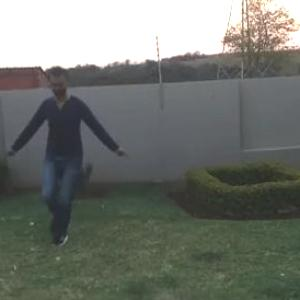land: (6, 67, 116, 229)
